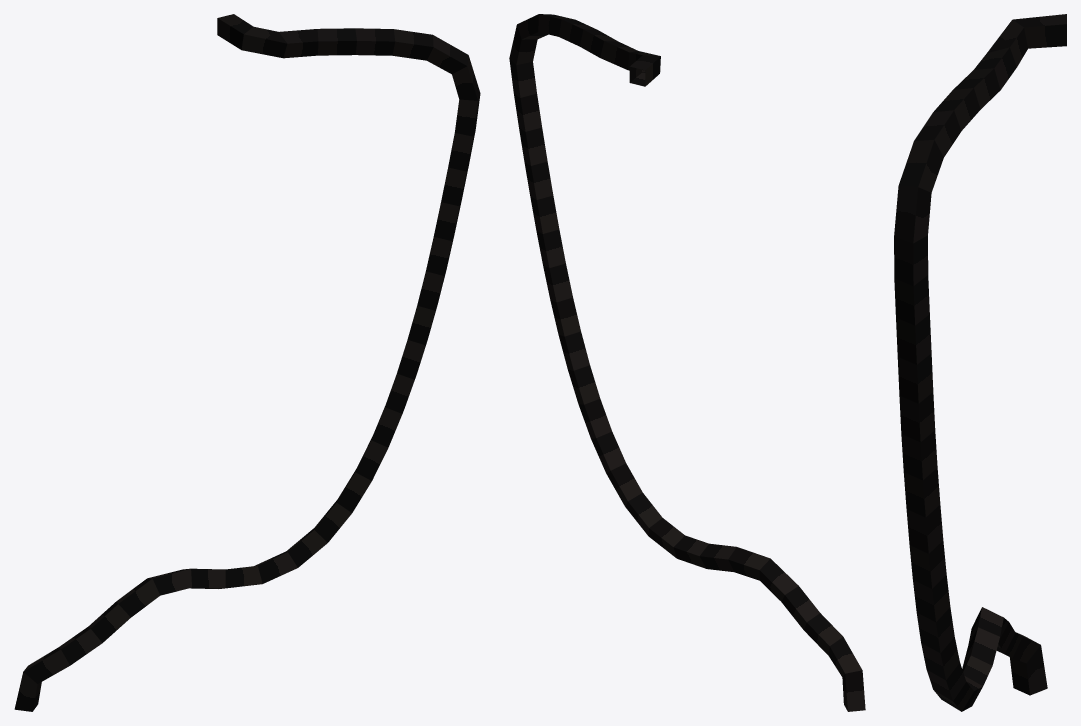
The model's file is wire_computerMonitor-power.fbx.
3 views of the same model, side by side, from view 1: azimuth 30°, elevation 25°; view 2: azimuth 150°, elevation 25°; view 3: azimuth 270°, elevation 25° (orthographic). The views are drawn at different scales.
Parts seen in each view (by area): view 1: wire_computerMonitor-power; view 2: wire_computerMonitor-power; view 3: wire_computerMonitor-power.
Part boxes in pixels (box(x1,y1,x2,y2)): wire_computerMonitor-power: box(14, 14, 480, 711); wire_computerMonitor-power: box(509, 14, 865, 711); wire_computerMonitor-power: box(894, 14, 1066, 711).
Size of the model in its own units: 128 by 183 by 35.68.
